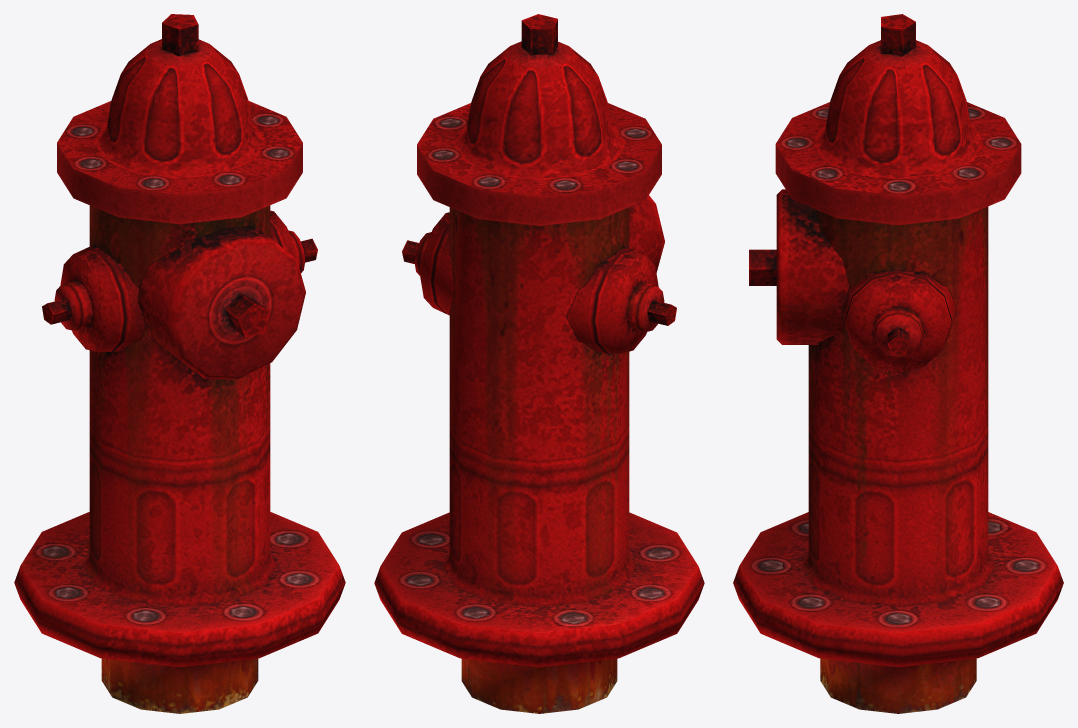
Rendered from fire_hydrant.glb.
The picture shows the model from 3 angles, left to right: view 1: azimuth 30°, elevation 25°; view 2: azimuth 150°, elevation 25°; view 3: azimuth 270°, elevation 25°; orthographic projection.
Visible parts, largest first — view 1: FireHydrant; view 2: FireHydrant; view 3: FireHydrant.
Part boxes in pixels (x1,y1,x2,y2): FireHydrant: [14, 14, 345, 713]; FireHydrant: [374, 14, 704, 713]; FireHydrant: [733, 14, 1063, 713].
Size of the model in its own units: 0.4236 by 0.9313 by 0.4236.
1 material, 1 textured.
